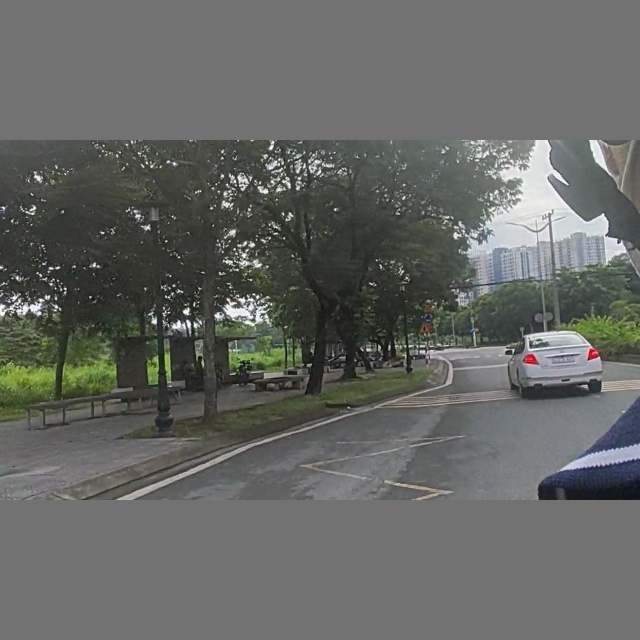P.102: (474, 326, 481, 333)
R.302a: (469, 326, 474, 333)
R.303: (422, 313, 433, 323)
W.207: (417, 322, 429, 333)
